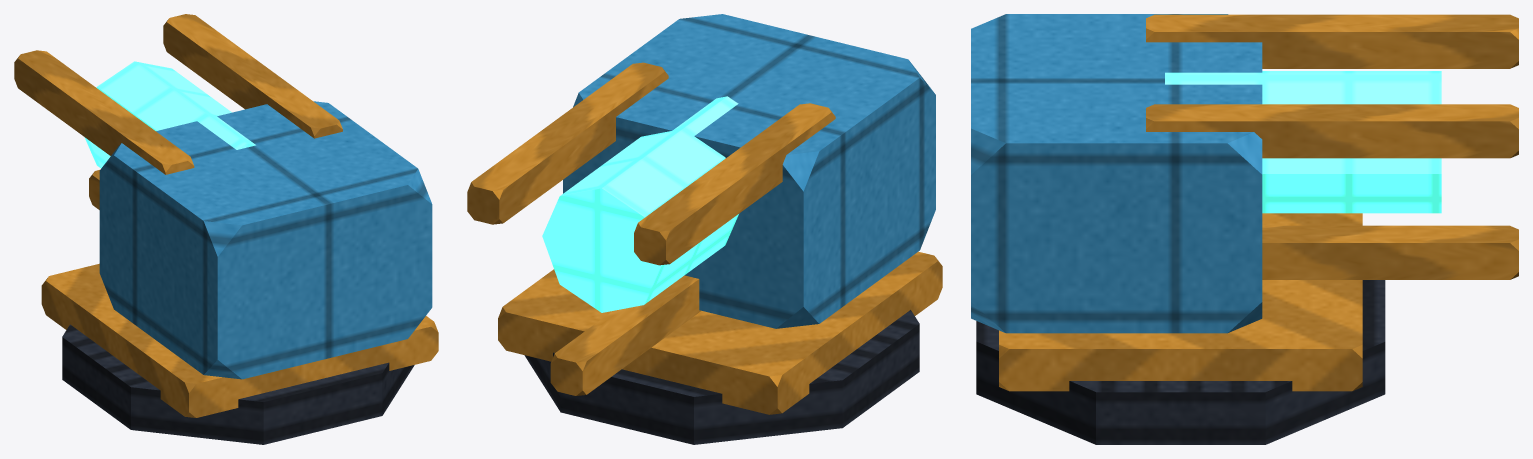
Rendered from eq_crystal_extractor.glb.
3 views of the same model, side by side, from view 1: azimuth 30°, elevation 25°; view 2: azimuth 150°, elevation 25°; view 3: azimuth 270°, elevation 25° (orthographic). The views are drawn at different scales.
Parts seen in each view (by area): view 1: eq_crystal_extractor; view 2: eq_crystal_extractor; view 3: eq_crystal_extractor.
Boxes of the visible parts, left/top/right/bottom form: eq_crystal_extractor: left=14, top=14, right=438, bottom=444; eq_crystal_extractor: left=467, top=14, right=942, bottom=444; eq_crystal_extractor: left=971, top=14, right=1518, bottom=444.
Bounding box in the file's own units: 1.4 × 1.1 × 1.88.
1 material, 1 textured.
